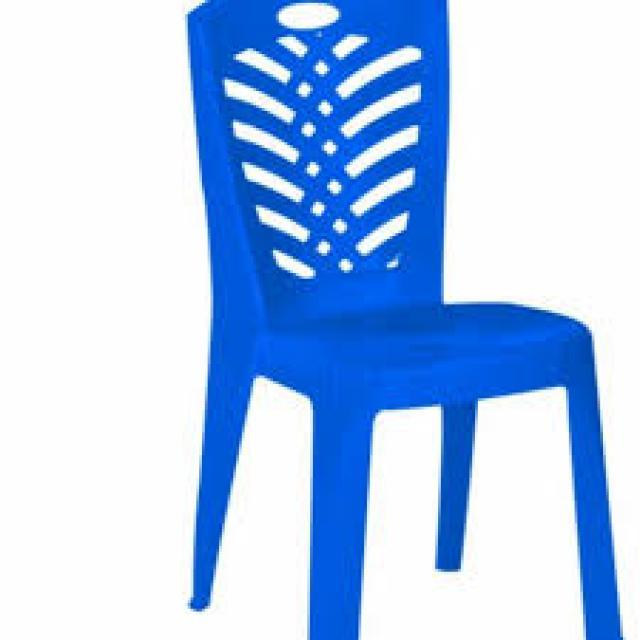chair: (167, 0, 625, 640)
